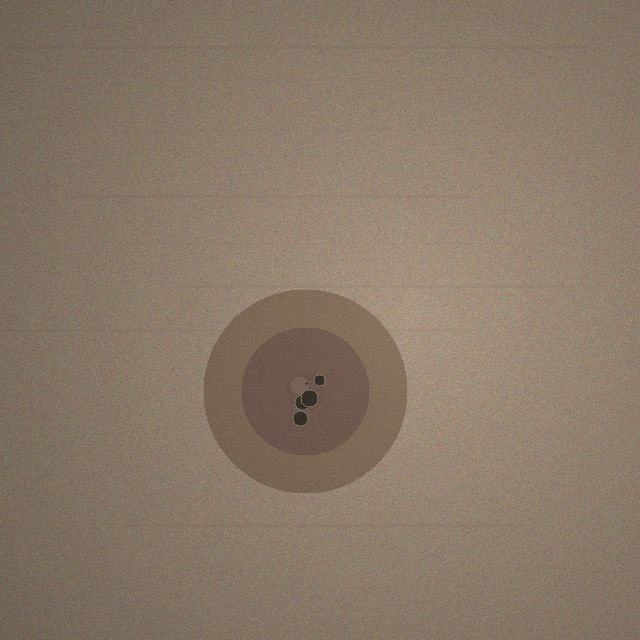shrinkage: (203, 289, 407, 493)
